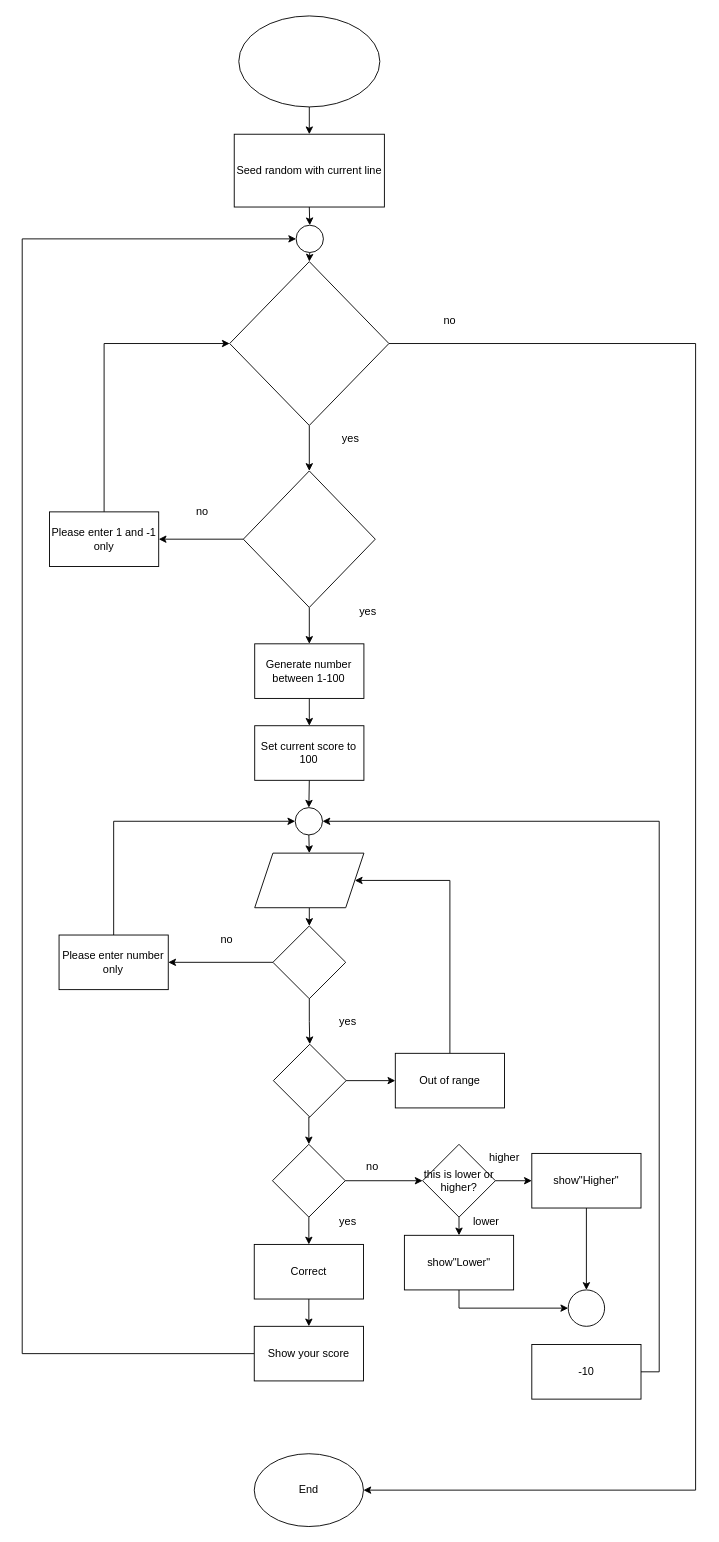
The diagram is 719 pixels wide and 1542 high, and some of its shapes have lost their labels. Here are the shapes that lost their labels. From the top down, the centre of each, then its label:
At point 309,61: "Start".
At point 309,343: "Do you want to play the game? (play=1, exit=-1)".
At point 308,538: "it is a number or not".
At point 309,880: "Guess number".
At point 309,962: "It is a number?".
At point 309,1080: "Is guess in range?".
At point 308,1180: "It is a right answer?".
